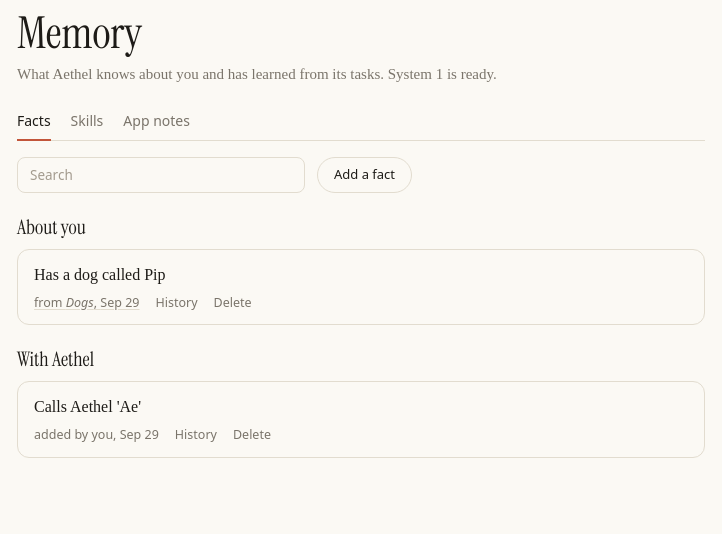
Scenario: history lists the changes
The width and height of the screenshot is (722, 534).
Click the 1st button "History". click: (177, 303)
box: [156,294,198,312]
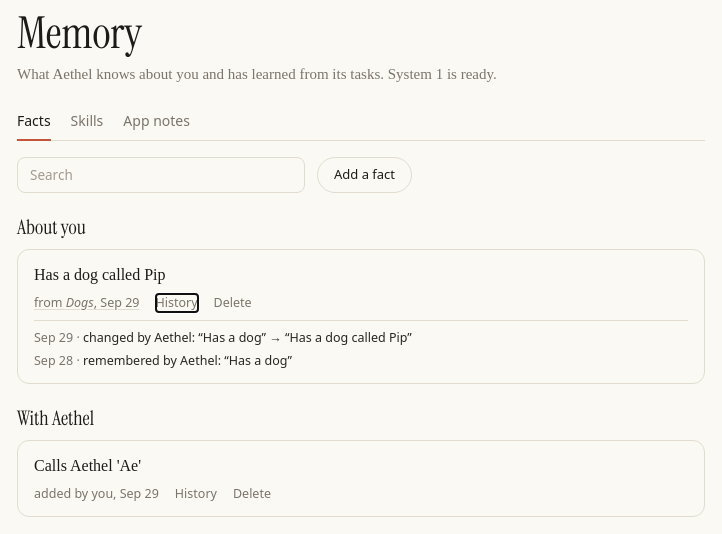
Result: the list item "changed by Aethel: “Has a dog” → “Has a dog called Pip”" is shown at [83,329,412,346]
Result: the list item "Sep 28 · remembered by Aethel: “Has a dog”" is shown at [34,352,292,369]
